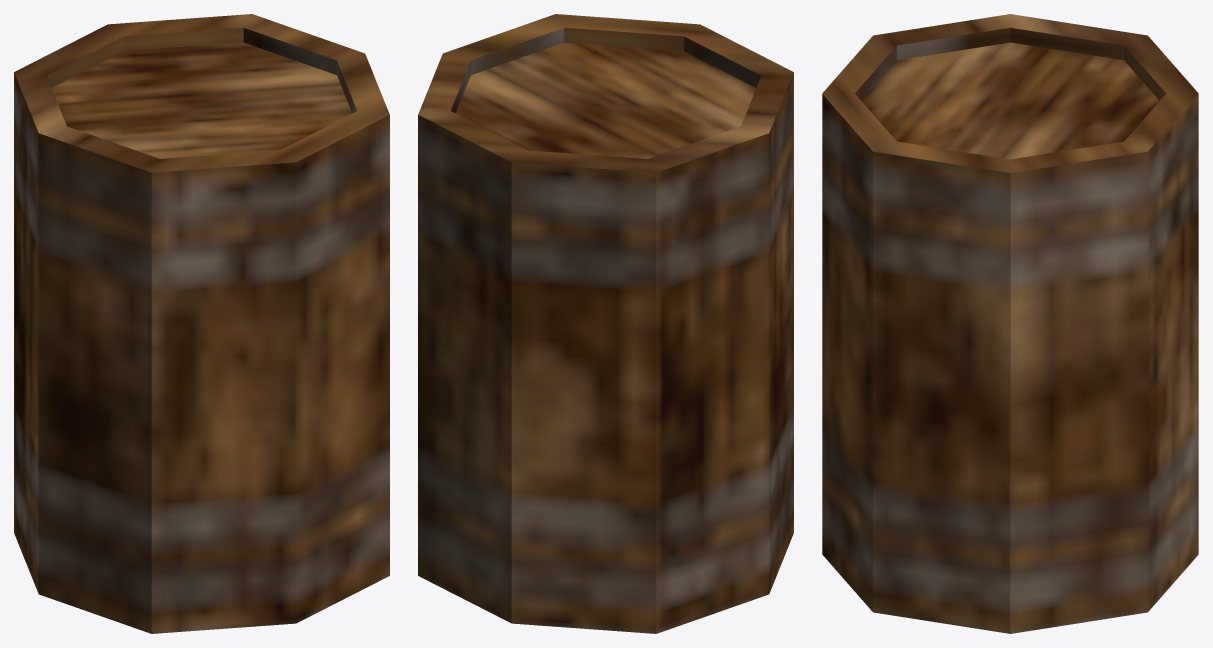
Rendered from Wood_Barrel.fbx.
The picture shows the model from 3 angles, left to right: view 1: azimuth 30°, elevation 25°; view 2: azimuth 150°, elevation 25°; view 3: azimuth 270°, elevation 25°; orthographic projection.
Parts seen in each view (by area): view 1: Wood_Barrel; view 2: Wood_Barrel; view 3: Wood_Barrel.
Part boxes in pixels (x1,y1,x2,y2): Wood_Barrel: (14,14,389,633); Wood_Barrel: (418,14,793,633); Wood_Barrel: (822,14,1198,633).
Bounding box in the file's own units: 100 × 135 × 100.
Materials: 1 (1 with a texture image).
